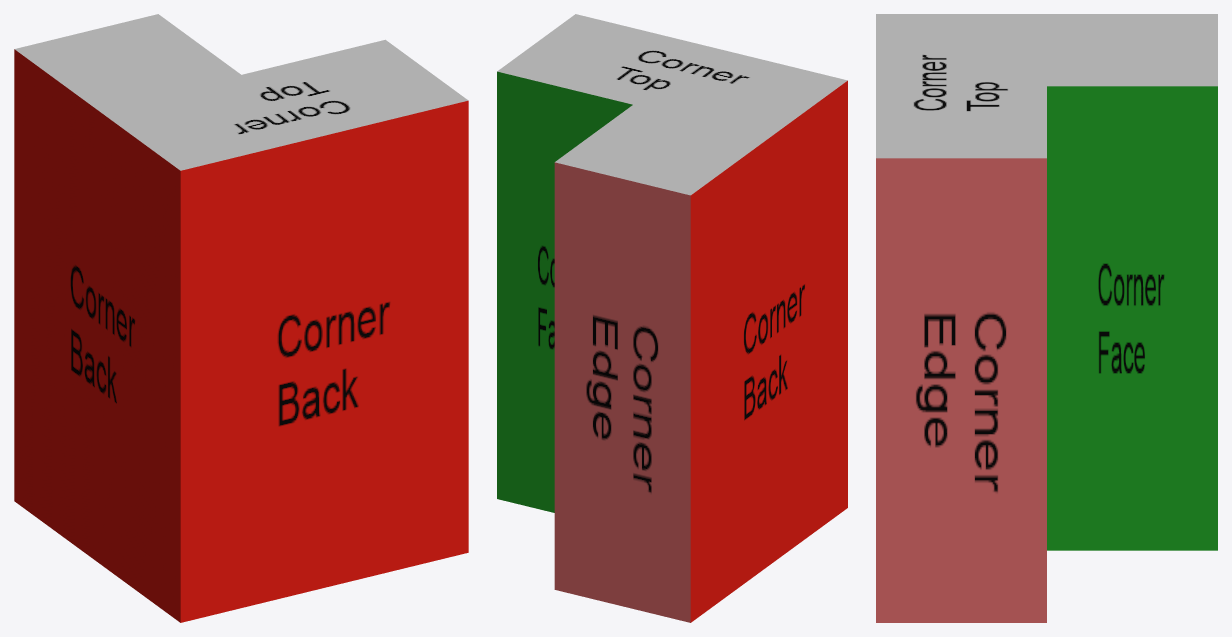
Rendered from CornerInner_Temp.FBX.
3 renders of one model, left to right at view 1: azimuth 30°, elevation 25°; view 2: azimuth 150°, elevation 25°; view 3: azimuth 270°, elevation 25°, orthographic. The views are drawn at different scales.
Parts seen in each view (by area): view 1: Box003; view 2: Box003; view 3: Box003.
Boxes of the visible parts, bbox=[...] form: Box003: bbox=[14, 14, 468, 622]; Box003: bbox=[497, 14, 847, 622]; Box003: bbox=[876, 14, 1217, 622].
Size of the model in its own units: 200 by 300 by 200.
